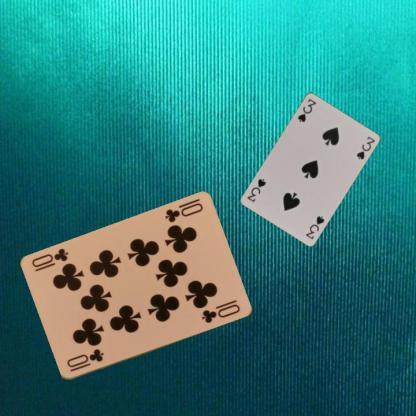10c: (64, 346, 105, 373), (162, 200, 204, 224)
3s: (303, 213, 326, 240), (295, 96, 317, 123)
